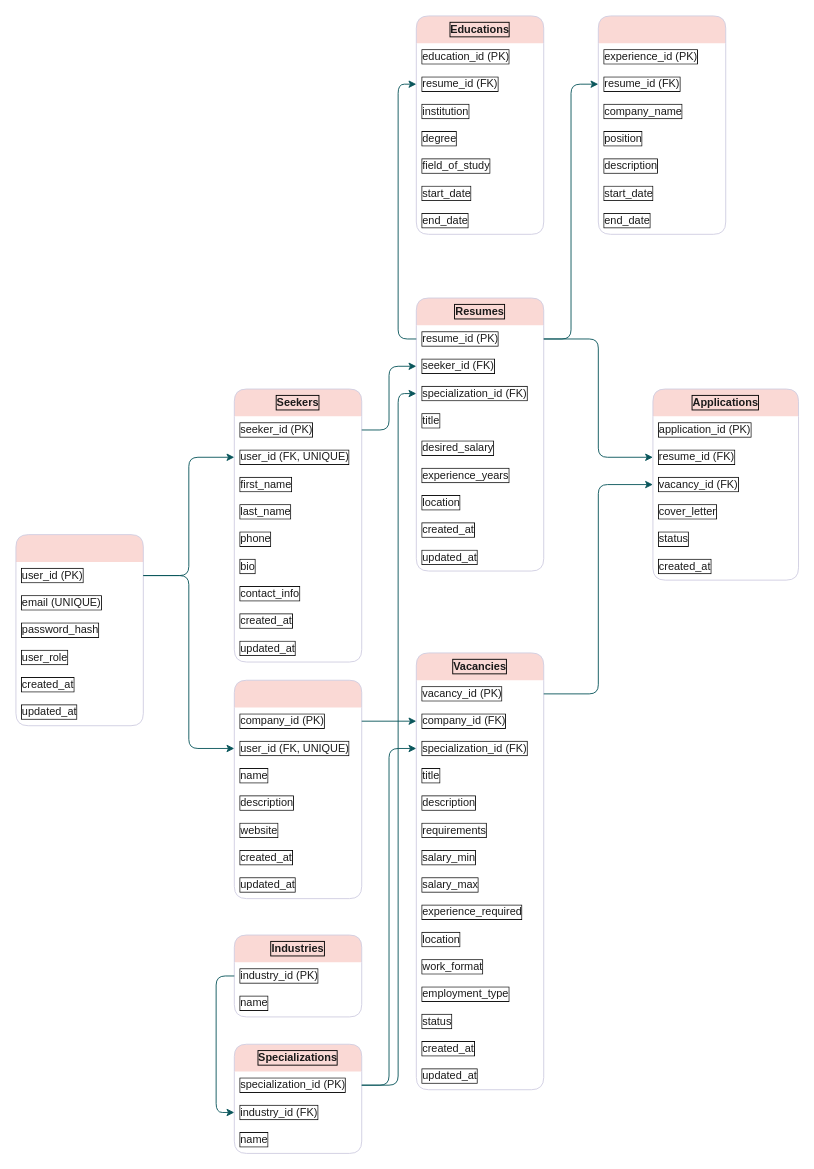
This 814x1169 diagram has some shape labels left out. Here are the shapes that lost their labels. From the top down, the box of each, then its label:
(597, 15, 726, 234): Experiences
(15, 534, 143, 726): Users
(233, 679, 362, 899): Companies
